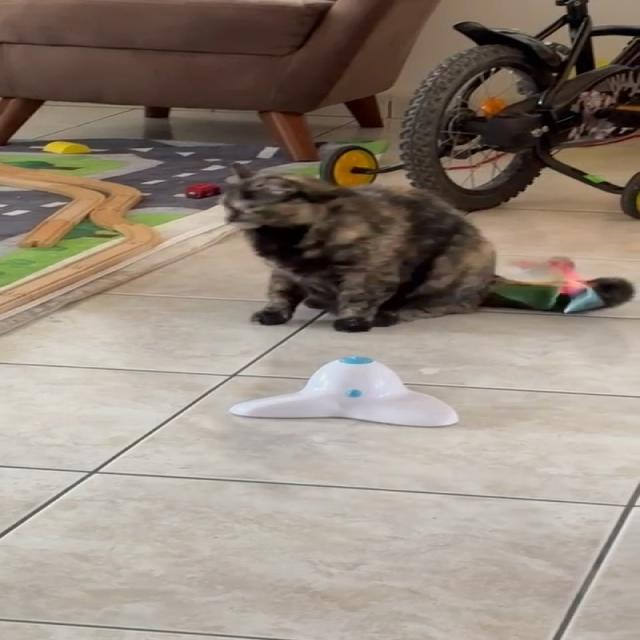authorized: (216, 161, 633, 333)
